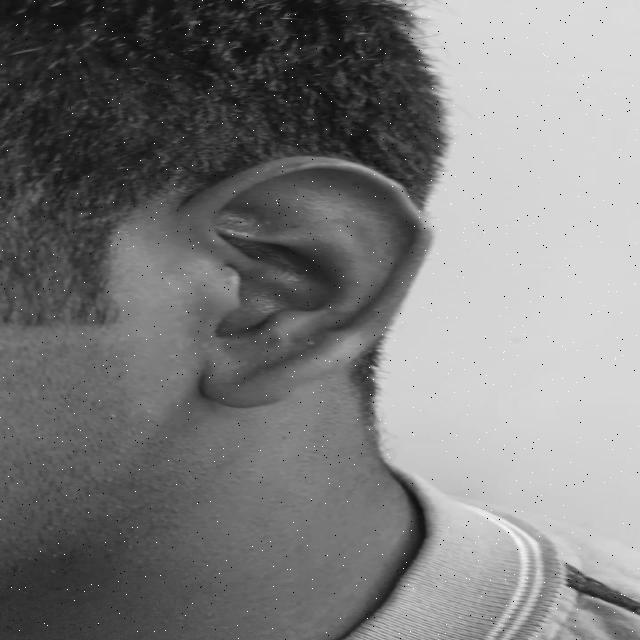ear: (181, 157, 428, 407), (218, 244, 218, 246)
